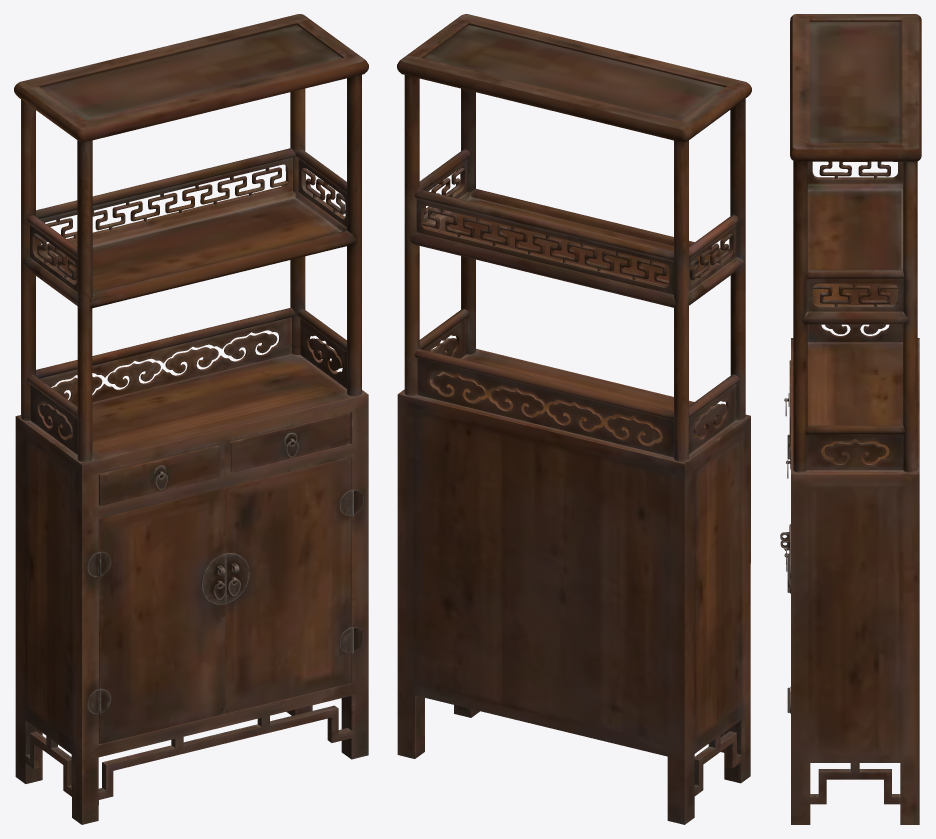
Rendered from chinese-cabinet.a7e4dfbeef.glb.
3 renders of one model, left to right at view 1: azimuth 30°, elevation 25°; view 2: azimuth 150°, elevation 25°; view 3: azimuth 270°, elevation 25°, orthographic. The views are drawn at different scales.
Visible parts, largest first — view 1: chinese_cabinet; view 2: chinese_cabinet; view 3: chinese_cabinet.
Boxes of the visible parts, <box> form: chinese_cabinet: <box>14,14,368,824</box>; chinese_cabinet: <box>397,14,751,824</box>; chinese_cabinet: <box>780,14,921,824</box>.
Size of the model in its own units: 0.8207 by 1.87 by 0.3544.
Materials: 1 (1 with a texture image).
